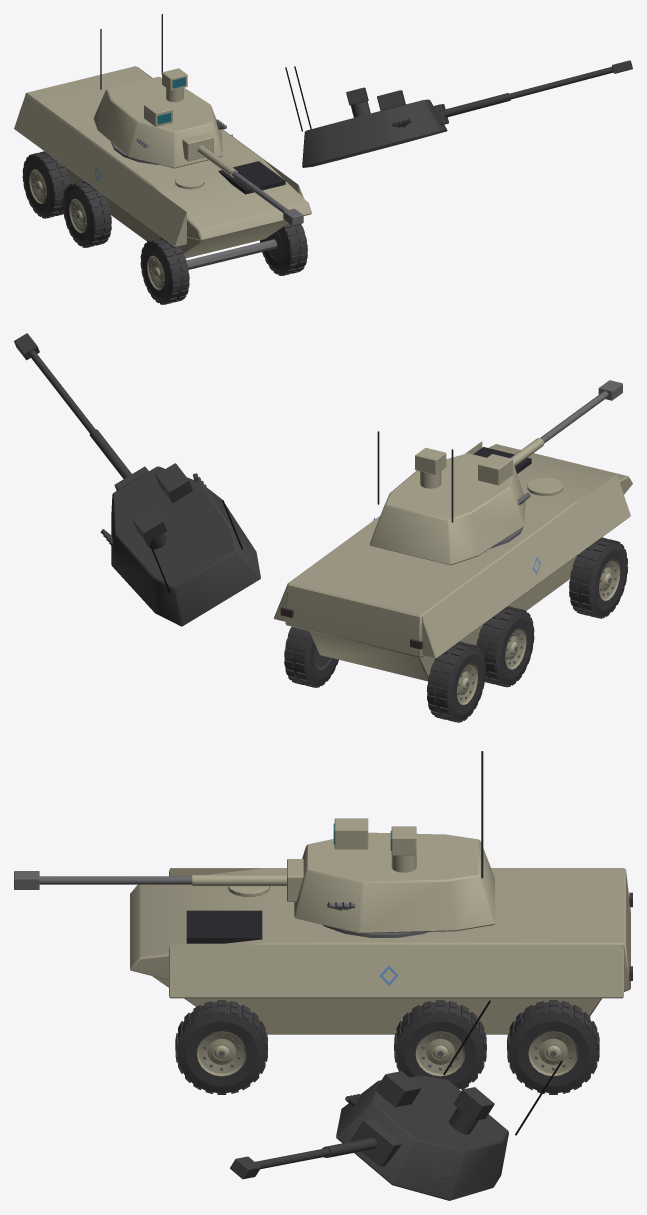
The model's file is directFire__ee_9_cascavel.glb.
The picture shows the model from 3 angles, top to bottom: view 1: azimuth 30°, elevation 25°; view 2: azimuth 150°, elevation 25°; view 3: azimuth 270°, elevation 25°; orthographic projection. The views are drawn at different scales.
Parts seen in each view (by area): view 1: Hull_Mesh, Turret_Mesh, Wreck, Wheel_L2_Mesh, Wheel_L1_Mesh, Wheel_L0_Mesh, Wheel_R2_Mesh, Gun_Mesh; view 2: Hull_Mesh, Wreck, Turret_Mesh, Wheel_L0_Mesh, Wheel_L2_Mesh, Wheel_L1_Mesh, Wheel_R0_Mesh, Gun_Mesh; view 3: Hull_Mesh, Turret_Mesh, Wreck, Wheel_R2_Mesh, Wheel_R0_Mesh, Wheel_R1_Mesh, Gun_Mesh.
Boxes of the visible parts, left/top/right/bottom form: Hull_Mesh: left=14, top=66, right=311, bottom=269; Turret_Mesh: left=93, top=14, right=226, bottom=168; Wreck: left=33, top=60, right=632, bottom=301; Wheel_L2_Mesh: left=140, top=237, right=189, bottom=304; Wheel_L1_Mesh: left=62, top=180, right=111, bottom=247; Wheel_L0_Mesh: left=22, top=151, right=70, bottom=218; Wheel_R2_Mesh: left=260, top=223, right=307, bottom=275; Gun_Mesh: left=182, top=133, right=303, bottom=225; Hull_Mesh: left=274, top=441, right=632, bottom=681; Wreck: left=14, top=333, right=623, bottom=685; Turret_Mesh: left=369, top=431, right=530, bottom=565; Wheel_L0_Mesh: left=427, top=641, right=485, bottom=722; Wheel_L2_Mesh: left=569, top=537, right=628, bottom=618; Wheel_L1_Mesh: left=476, top=606, right=534, bottom=687; Wheel_R0_Mesh: left=284, top=627, right=338, bottom=687; Gun_Mesh: left=510, top=380, right=622, bottom=466; Hull_Mesh: left=130, top=868, right=632, bottom=1034; Turret_Mesh: left=294, top=751, right=494, bottom=933; Wreck: left=219, top=1000, right=562, bottom=1200; Wheel_R2_Mesh: left=175, top=1000, right=267, bottom=1094; Wheel_R0_Mesh: left=507, top=1000, right=599, bottom=1094; Wheel_R1_Mesh: left=394, top=1000, right=486, bottom=1089; Gun_Mesh: left=14, top=859, right=303, bottom=901.
Size of what is drawn, in the model's own units: 8.85 by 3.43 by 6.96.
